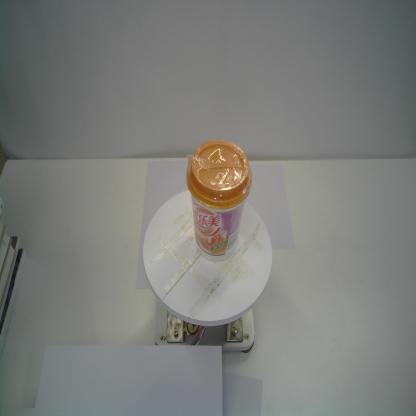Instant Drink: (185, 138, 253, 262)
